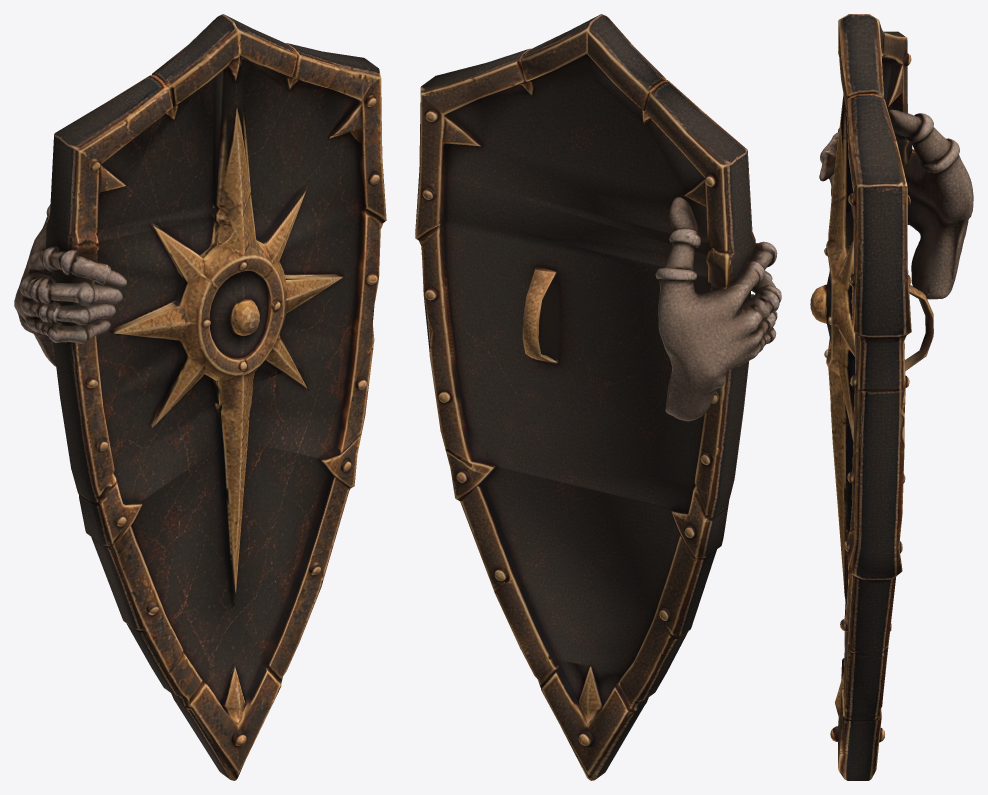
The model's file is skeletonlord_hand_l.glb.
3 renders of one model, left to right at view 1: azimuth 30°, elevation 25°; view 2: azimuth 150°, elevation 25°; view 3: azimuth 270°, elevation 25°, orthographic.
Parts seen in each view (by area): view 1: tripo_node_3434325f-4469-4d22-ad0e-5f53b70fdd9e; view 2: tripo_node_3434325f-4469-4d22-ad0e-5f53b70fdd9e; view 3: tripo_node_3434325f-4469-4d22-ad0e-5f53b70fdd9e.
Part boxes in pixels (x1,y1,x2,y2): tripo_node_3434325f-4469-4d22-ad0e-5f53b70fdd9e: (14, 14, 386, 780); tripo_node_3434325f-4469-4d22-ad0e-5f53b70fdd9e: (415, 14, 781, 780); tripo_node_3434325f-4469-4d22-ad0e-5f53b70fdd9e: (810, 14, 973, 780).
Size of the model in its own units: 0.481 by 0.9995 by 0.1929.
1 material, 1 textured.
